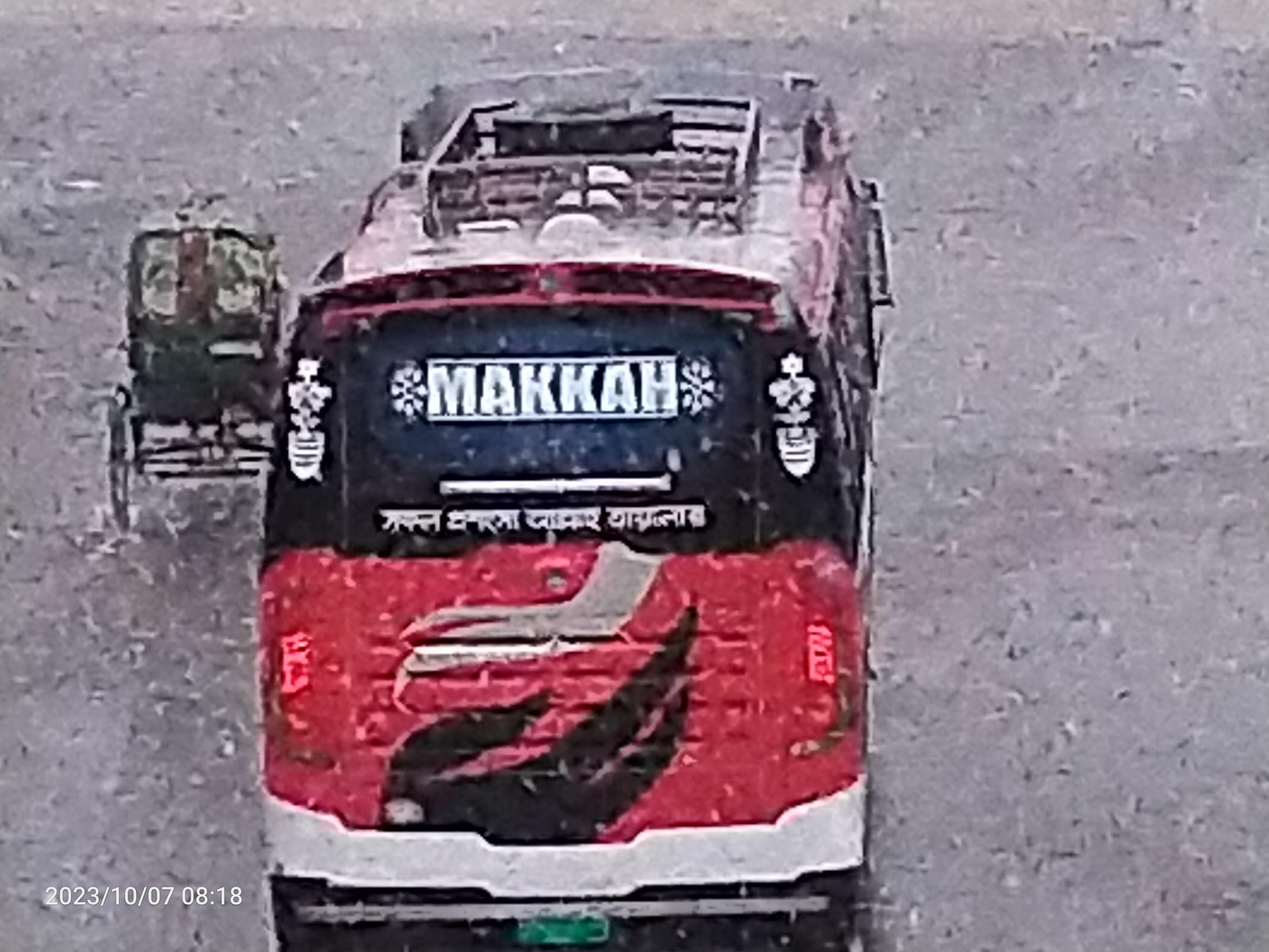Bus: (216, 29, 928, 952)
Car: (56, 168, 314, 541)
